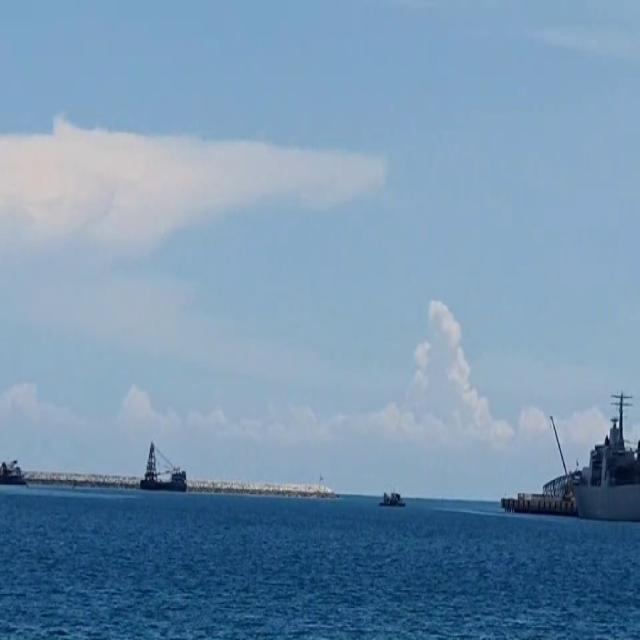civilianship: (133, 424, 194, 506)
warship1: (483, 369, 640, 535)
